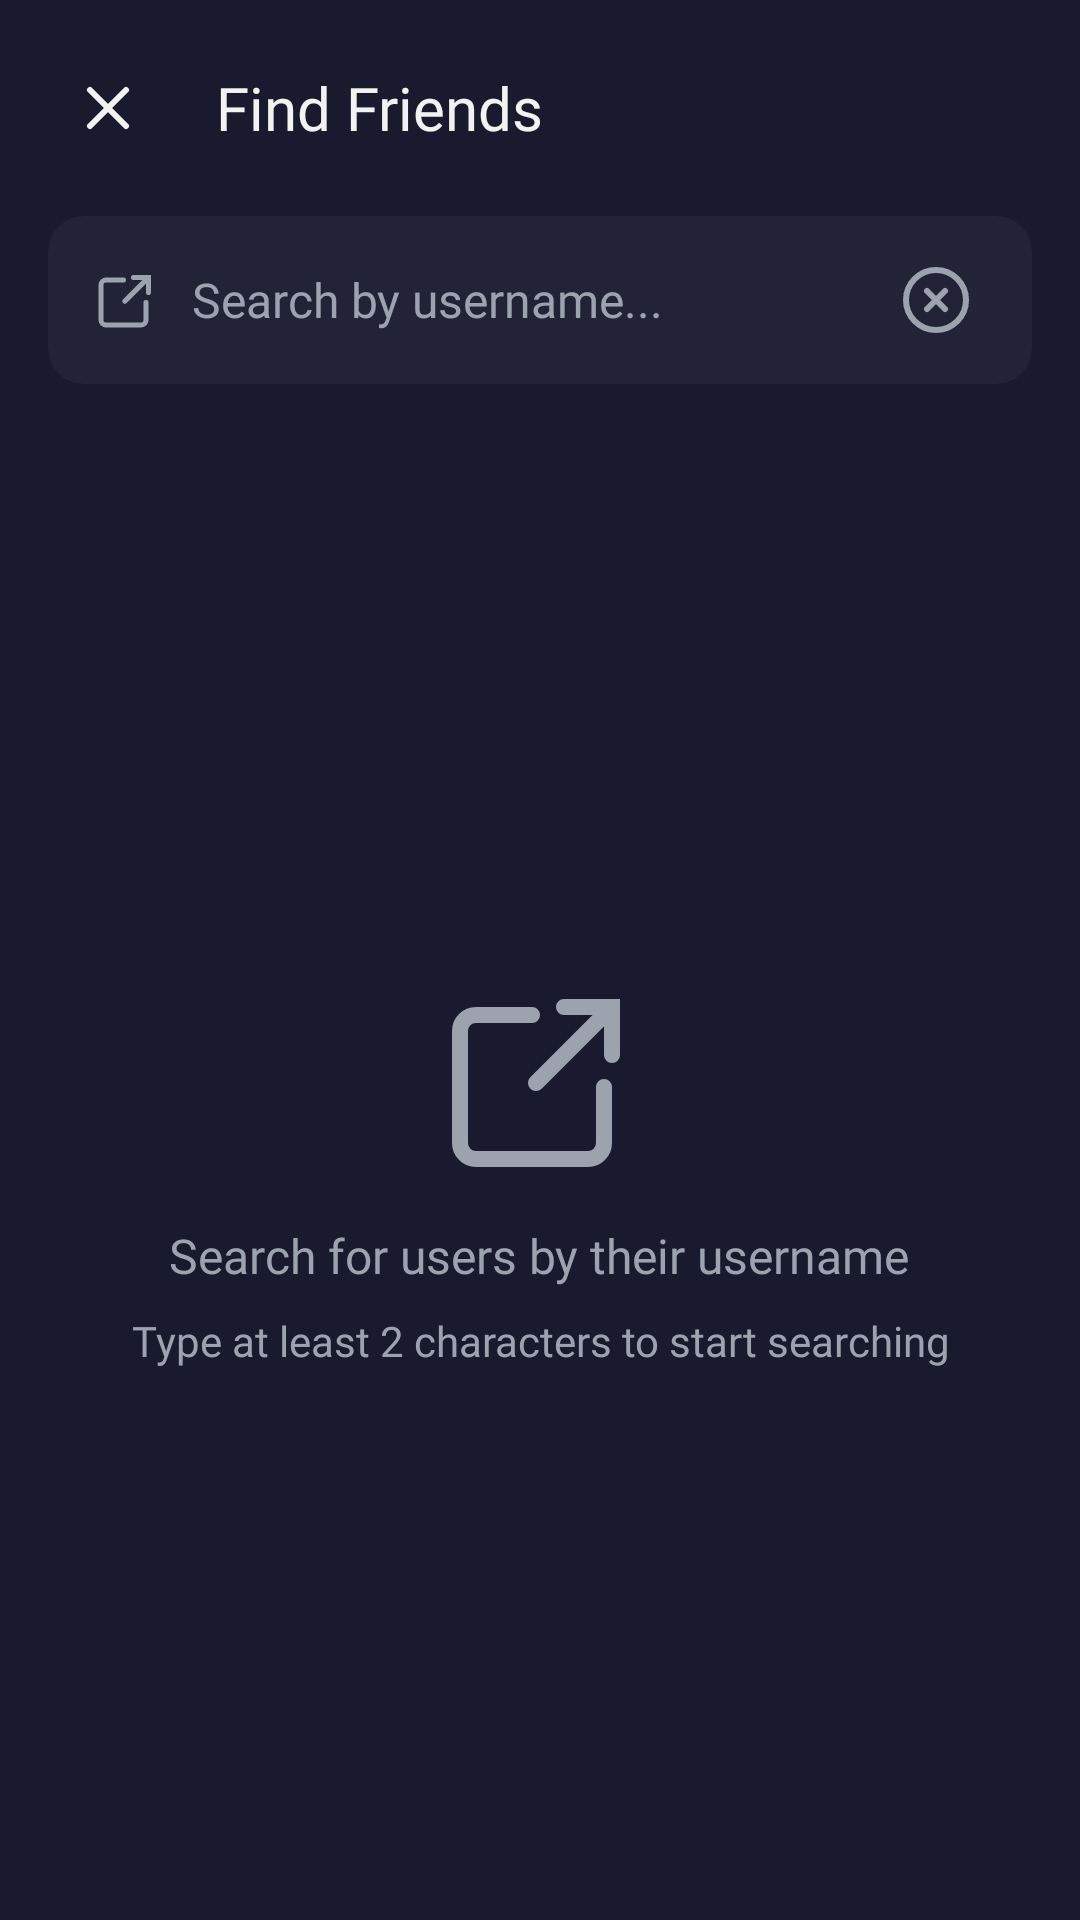

Where icons sit on this 1080 x 1920 app screen, as detection(x1, y1, x2, y2):
Clear: detection(903, 267, 969, 333)
